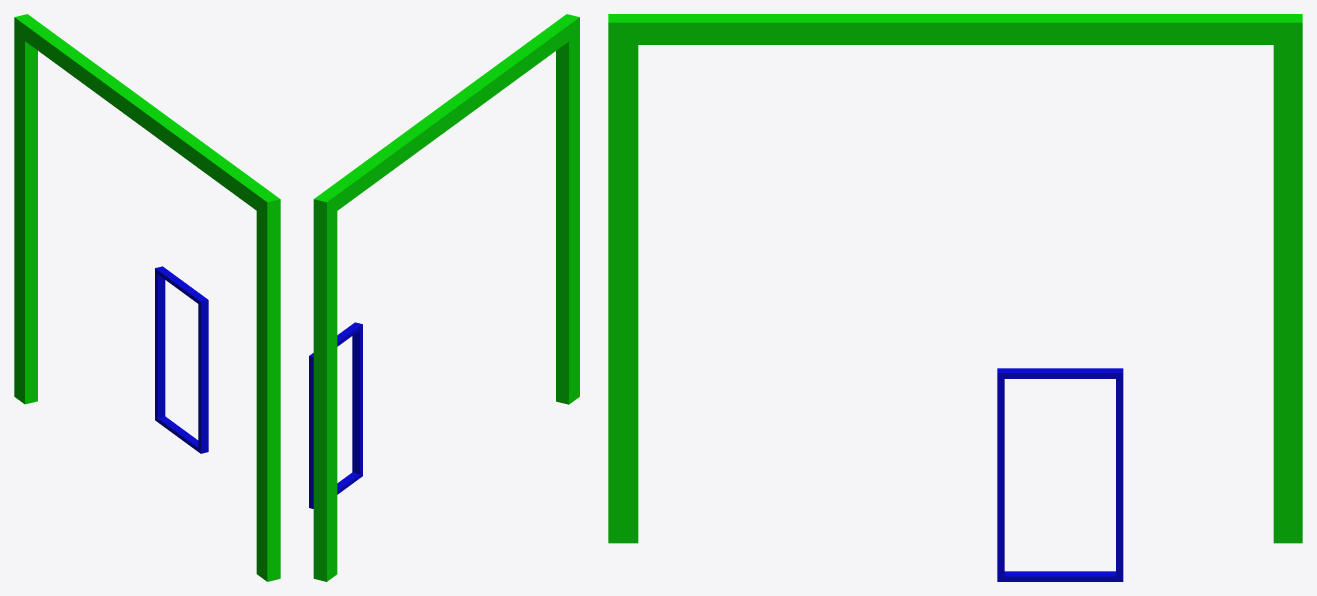
The model's file is Door01.fbx.
3 views of the same model, side by side, from view 1: azimuth 30°, elevation 25°; view 2: azimuth 150°, elevation 25°; view 3: azimuth 270°, elevation 25° (orthographic). The views are drawn at different scales.
Parts seen in each view (by area): view 1: NTT_Door_Frame_Stand; view 2: NTT_Door_Frame_Stand; view 3: NTT_Door_Frame_Stand.
Part boxes in pixels (left/top/right/bottom): NTT_Door_Frame_Stand: left=14, top=14, right=280, bottom=581; NTT_Door_Frame_Stand: left=309, top=14, right=579, bottom=581; NTT_Door_Frame_Stand: left=608, top=14, right=1302, bottom=581.
Bounding box in the file's own units: 139 × 608 × 735.
